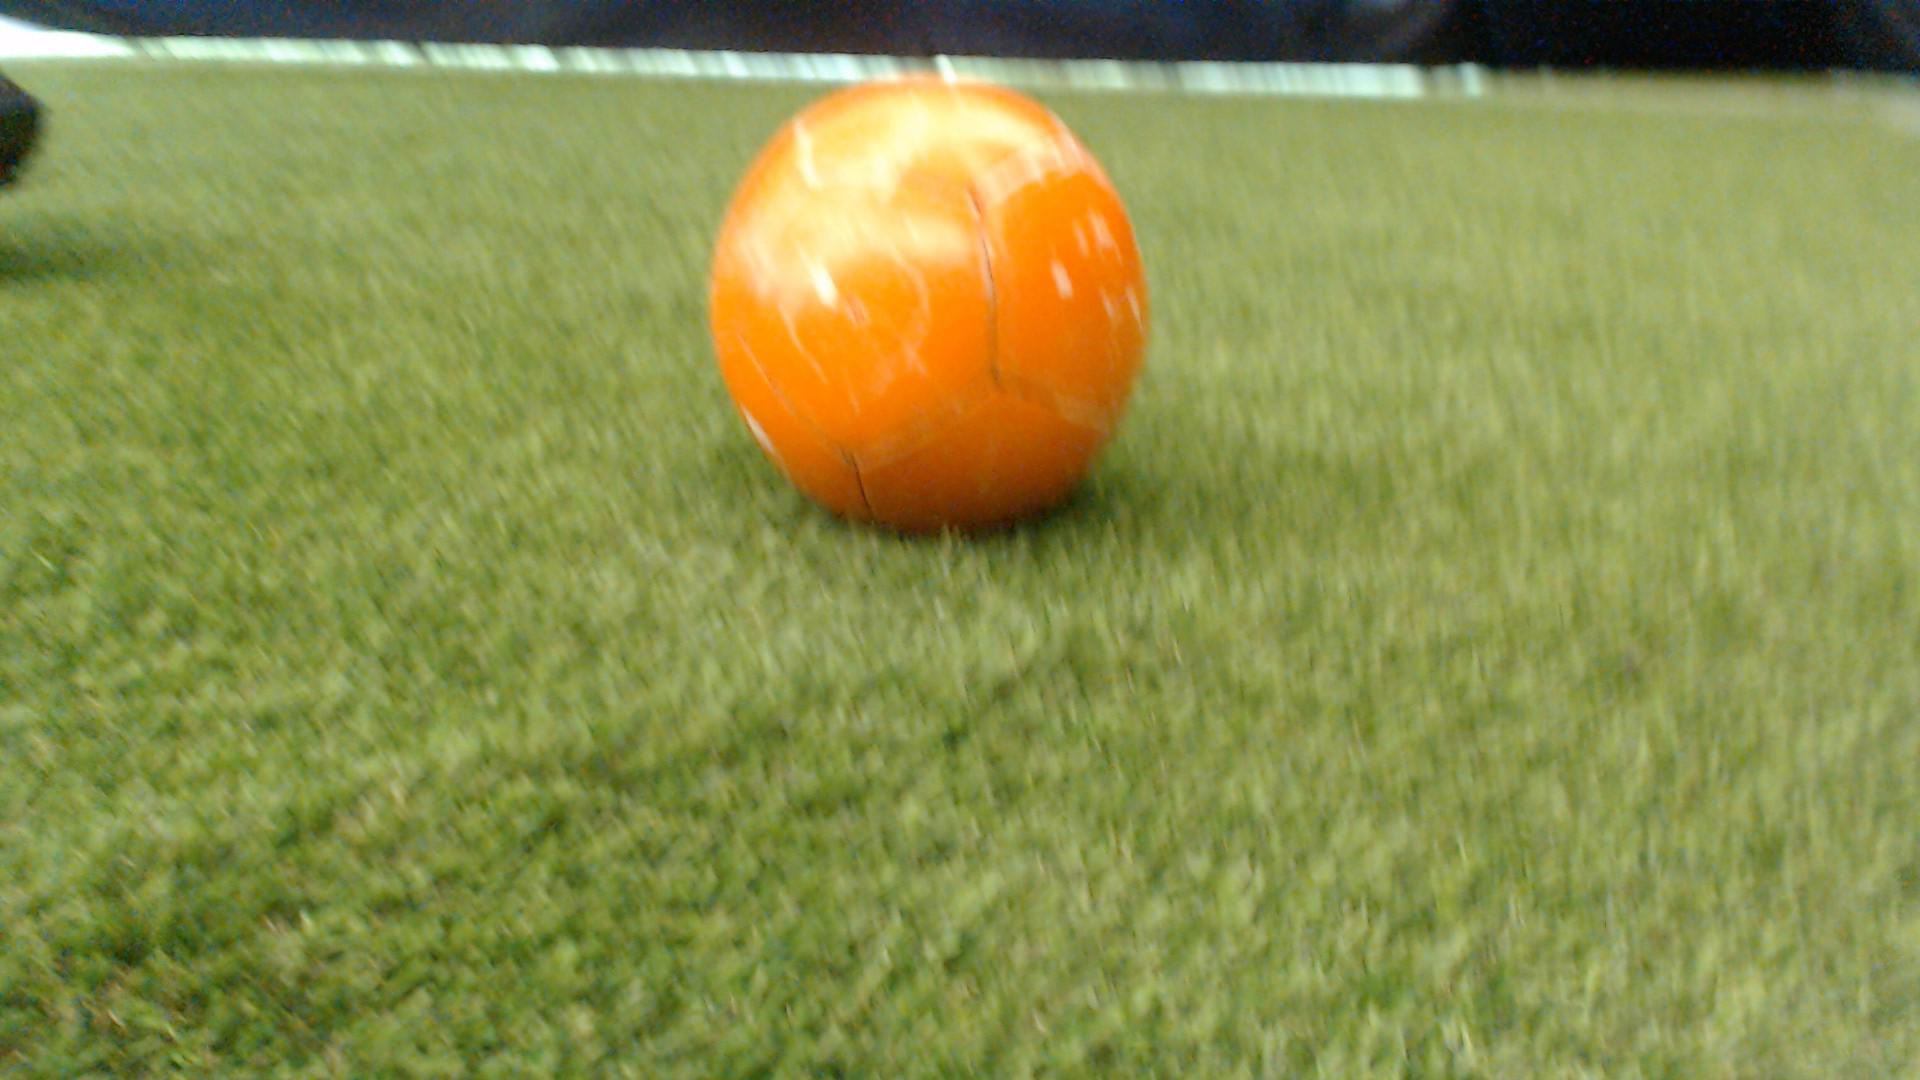bola: (684, 59, 1218, 546)
